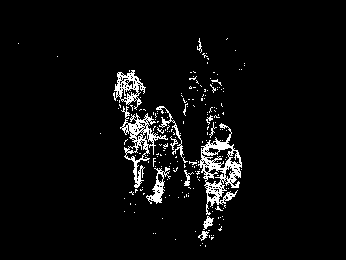person: (202, 123, 241, 244), (149, 105, 182, 205), (121, 107, 154, 196), (114, 64, 145, 141)
